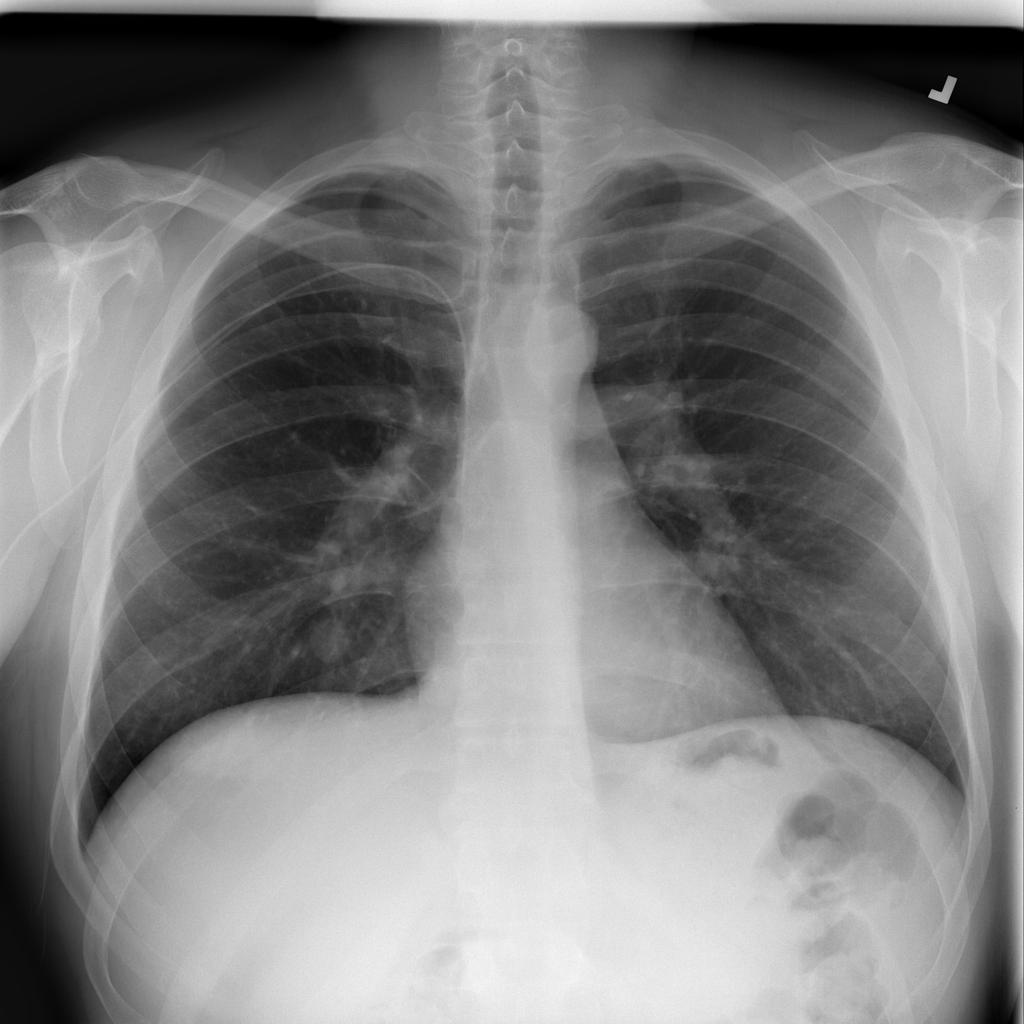nodule: (295, 604, 370, 677)
